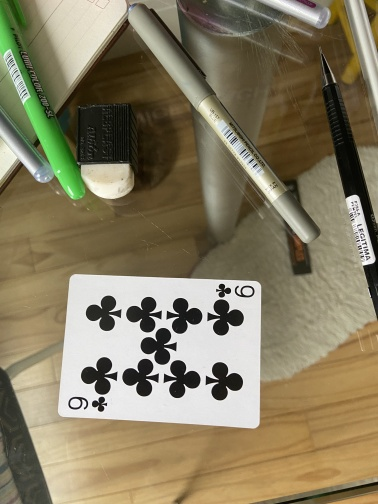nine: (57, 273, 263, 430)
